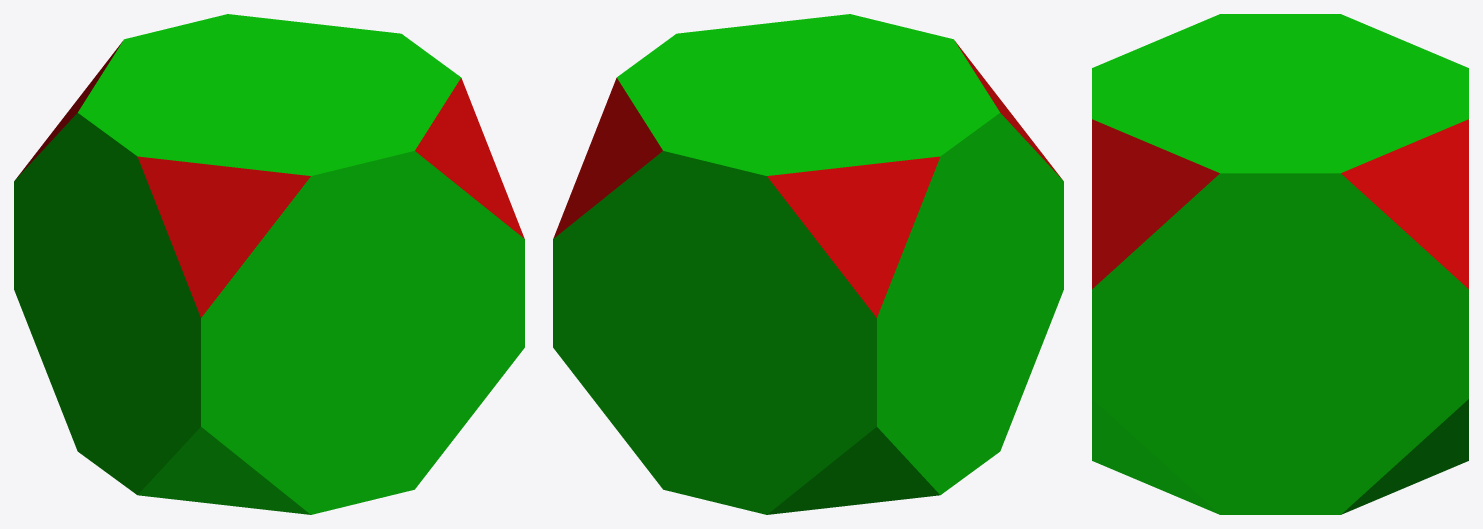
Rendered from anim_cube_000015.obj.
3 views of the same model, side by side, from view 1: azimuth 30°, elevation 25°; view 2: azimuth 150°, elevation 25°; view 3: azimuth 270°, elevation 25° (orthographic).
Parts seen in each view (by area): view 1: Cube_Cube.002_Material.002, Cube_Cube.002_Material.001; view 2: Cube_Cube.002_Material.002, Cube_Cube.002_Material.001; view 3: Cube_Cube.002_Material.002, Cube_Cube.002_Material.001.
Part boxes in pixels (x1=…): Cube_Cube.002_Material.002: x1=14, y1=14, x2=524, y2=514; Cube_Cube.002_Material.001: x1=15, y1=41, x2=524, y2=317; Cube_Cube.002_Material.002: x1=553, y1=14, x2=1063, y2=514; Cube_Cube.002_Material.001: x1=553, y1=41, x2=1062, y2=317; Cube_Cube.002_Material.002: x1=1092, y1=14, x2=1468, y2=514; Cube_Cube.002_Material.001: x1=1092, y1=119, x2=1468, y2=288.
Size of the model in its own units: 2.91 by 2.91 by 2.91.
